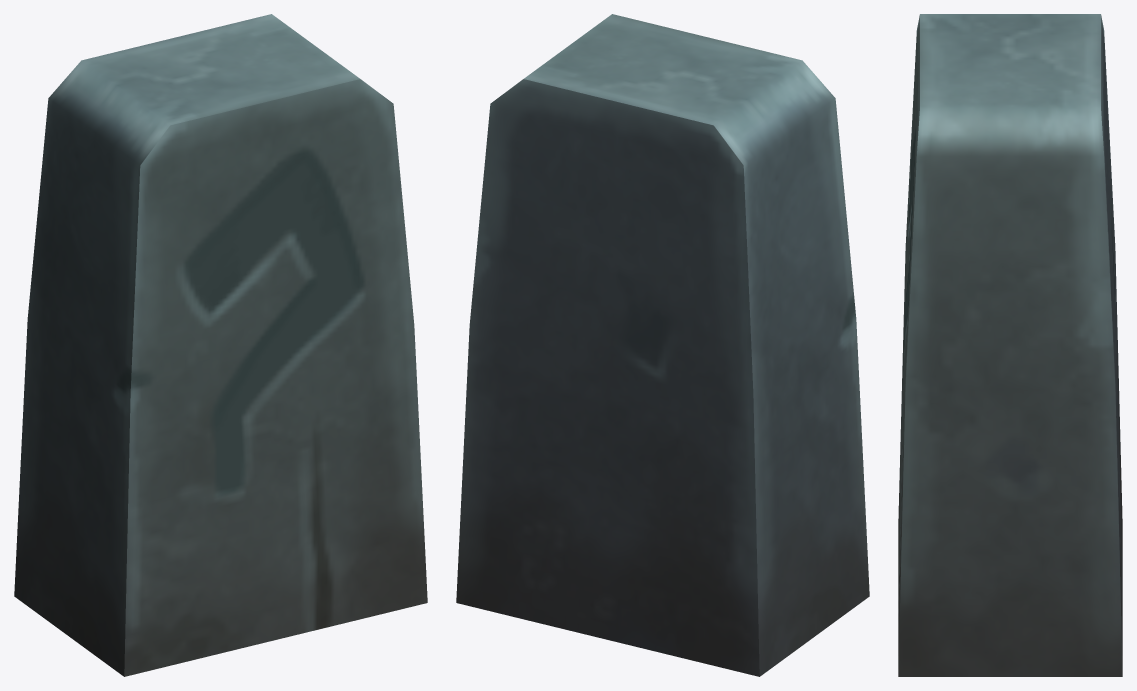
Rendered from stone_rune02.fbx.
3 renders of one model, left to right at view 1: azimuth 30°, elevation 25°; view 2: azimuth 150°, elevation 25°; view 3: azimuth 270°, elevation 25°, orthographic.
Visible parts, largest first — view 1: stone_rune02; view 2: stone_rune02; view 3: stone_rune02.
Boxes of the visible parts, x1=… form: stone_rune02: x1=14, y1=14, x2=427, y2=676; stone_rune02: x1=456, y1=14, x2=869, y2=676; stone_rune02: x1=898, y1=14, x2=1122, y2=676.
Size of the model in its own units: 70.22 by 117 by 44.12.
